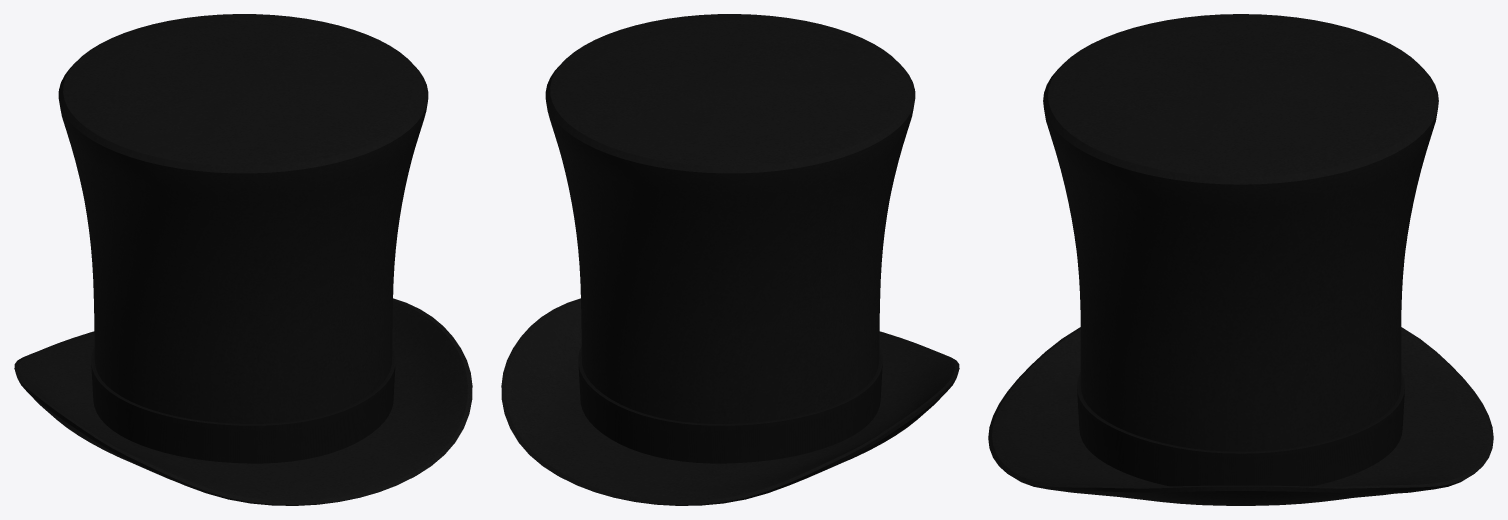
Rendered from top_hat.glb.
3 views of the same model, side by side, from view 1: azimuth 30°, elevation 25°; view 2: azimuth 150°, elevation 25°; view 3: azimuth 270°, elevation 25° (orthographic). The views are drawn at different scales.
Visible parts, largest first — view 1: Object_2; view 2: Object_2; view 3: Object_2.
Boxes of the visible parts, x1,y1,x2,y2 form: Object_2: (14, 14, 472, 505); Object_2: (501, 14, 959, 505); Object_2: (988, 14, 1493, 505).
Bounding box in the file's own units: 2.53 × 2.12 × 2.73.
Materials: 1 (1 with a texture image).
